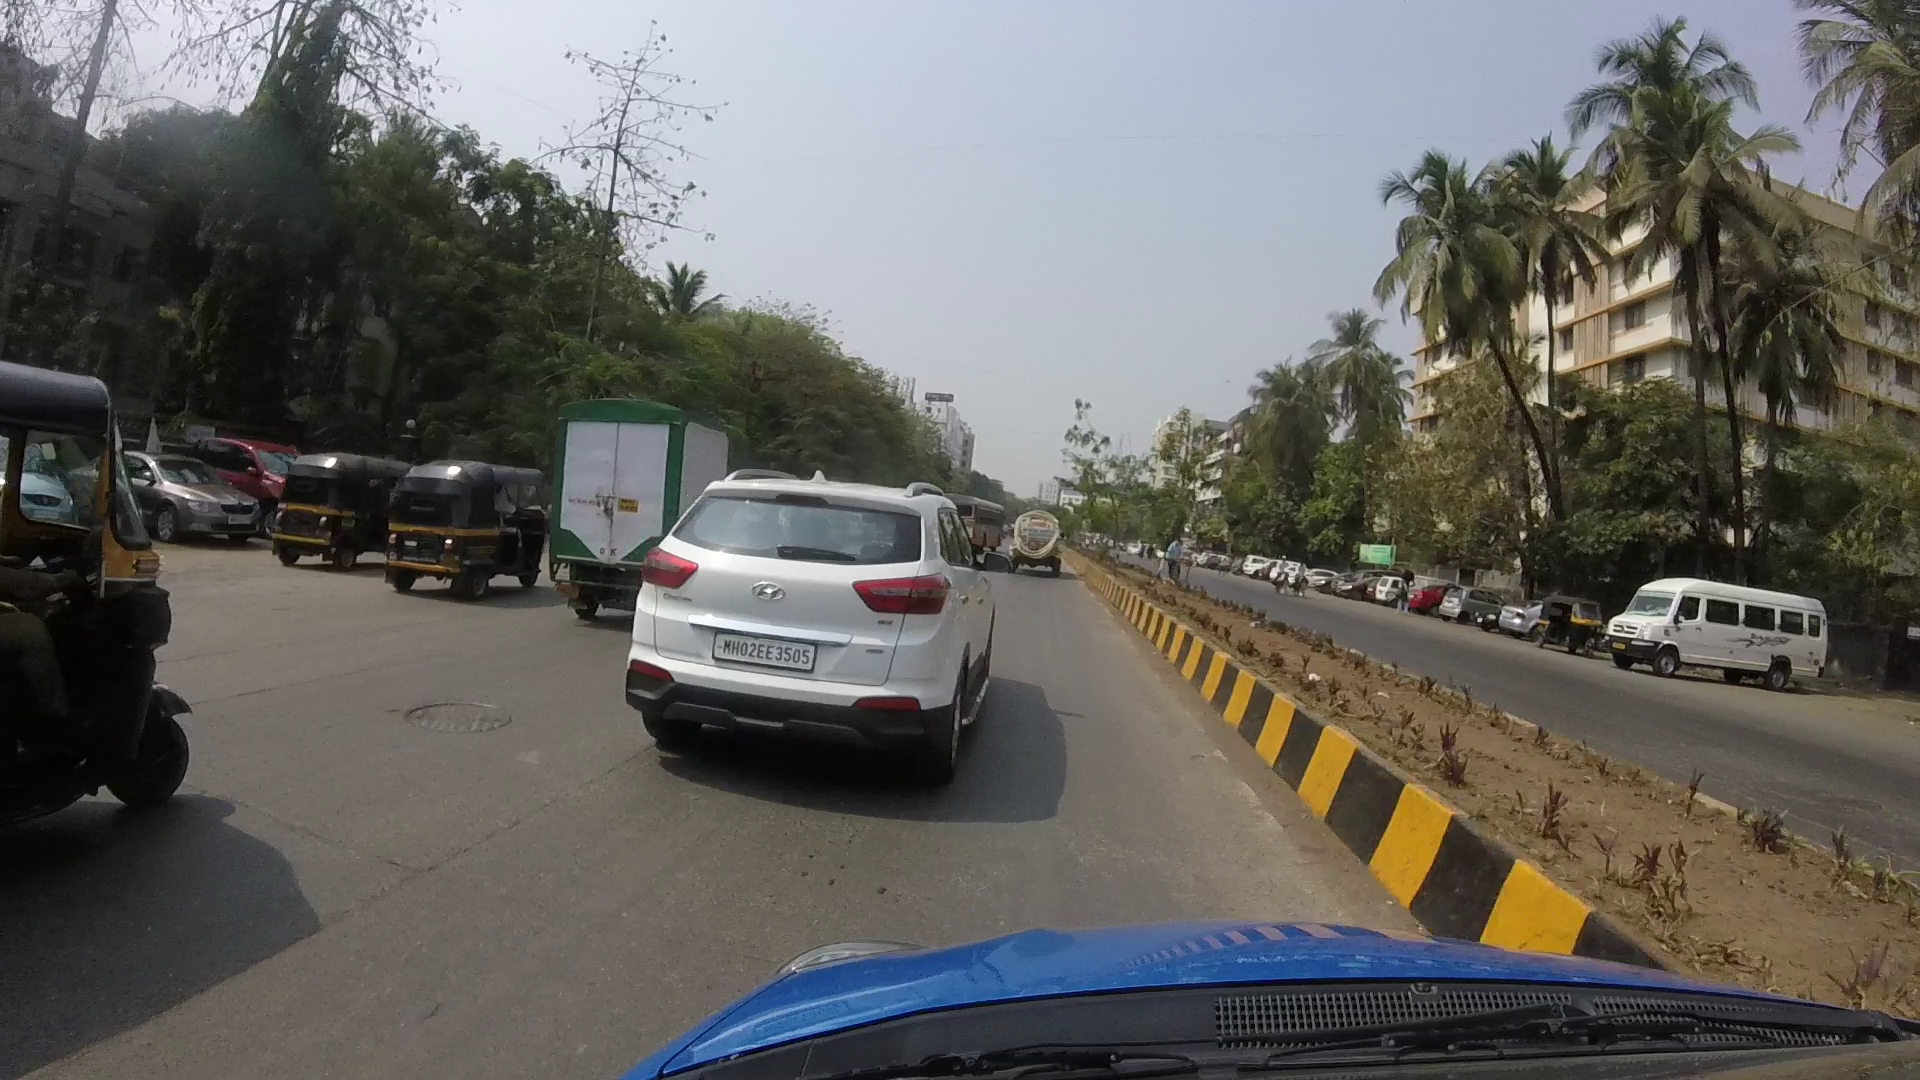bus: (1606, 562, 1840, 696)
car: (621, 468, 1010, 740), (103, 436, 262, 564)
rickshaw: (3, 363, 223, 847), (380, 465, 551, 583), (268, 442, 388, 560)
truck: (535, 364, 723, 616), (1005, 498, 1073, 570)
